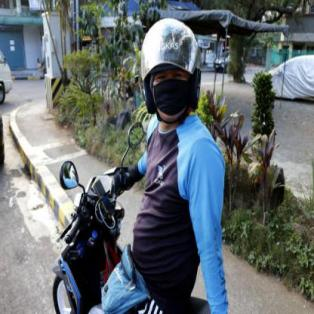Motocicleta: (45, 147, 123, 313)
